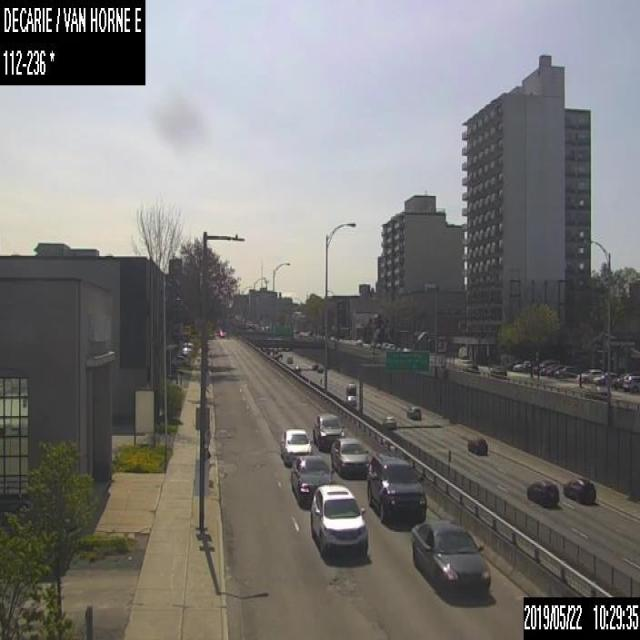pedestrian: (536, 361, 540, 378), (578, 371, 582, 386)
vehicle: (409, 518, 490, 592), (310, 483, 367, 559), (366, 452, 425, 525), (290, 454, 334, 506), (331, 438, 368, 478), (279, 425, 312, 464), (312, 413, 343, 450), (526, 477, 558, 504), (562, 476, 595, 501), (467, 434, 488, 454), (578, 368, 602, 383), (611, 372, 632, 389), (593, 371, 616, 385), (554, 365, 576, 379), (622, 374, 639, 392), (406, 404, 420, 419), (491, 364, 506, 377), (383, 414, 395, 428), (172, 355, 188, 364), (346, 382, 356, 394), (346, 394, 356, 406), (457, 346, 465, 358), (401, 346, 411, 352), (355, 338, 362, 346), (285, 354, 291, 362), (385, 342, 393, 348), (312, 362, 318, 369), (317, 366, 323, 372), (380, 342, 386, 348)
